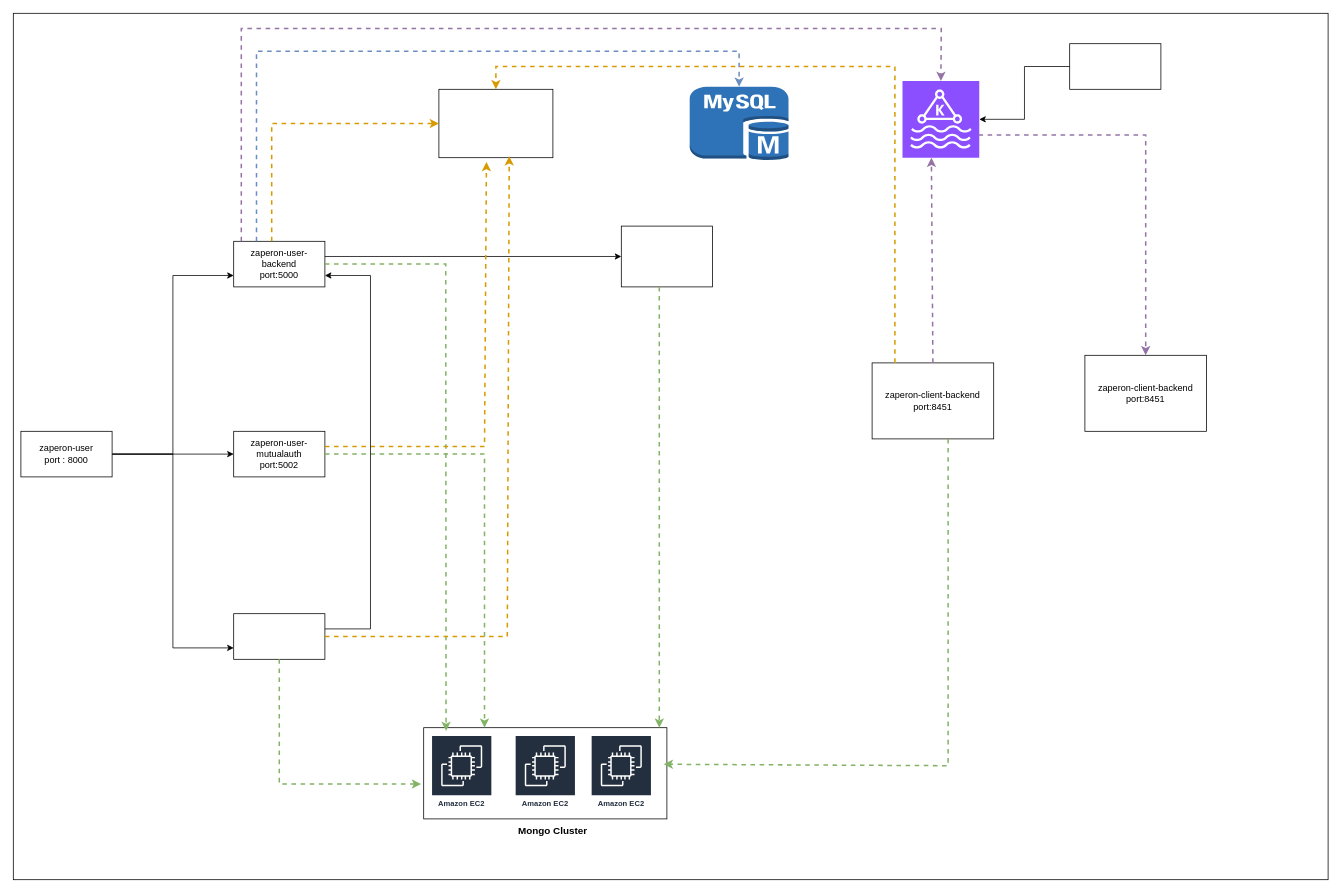
Some shapes in this 1341 by 893 pixel diagram are drawn without their labels. The box of each missing label's shape, as (x1, y1, x2, y2) in pixels:
Elasticsearch: (438, 89, 553, 158)
zaperon-scim-server port: 9096: (621, 225, 712, 287)
zaperon-user-oauth port:5003: (233, 613, 325, 659)
zookeeper: (1069, 43, 1161, 89)
